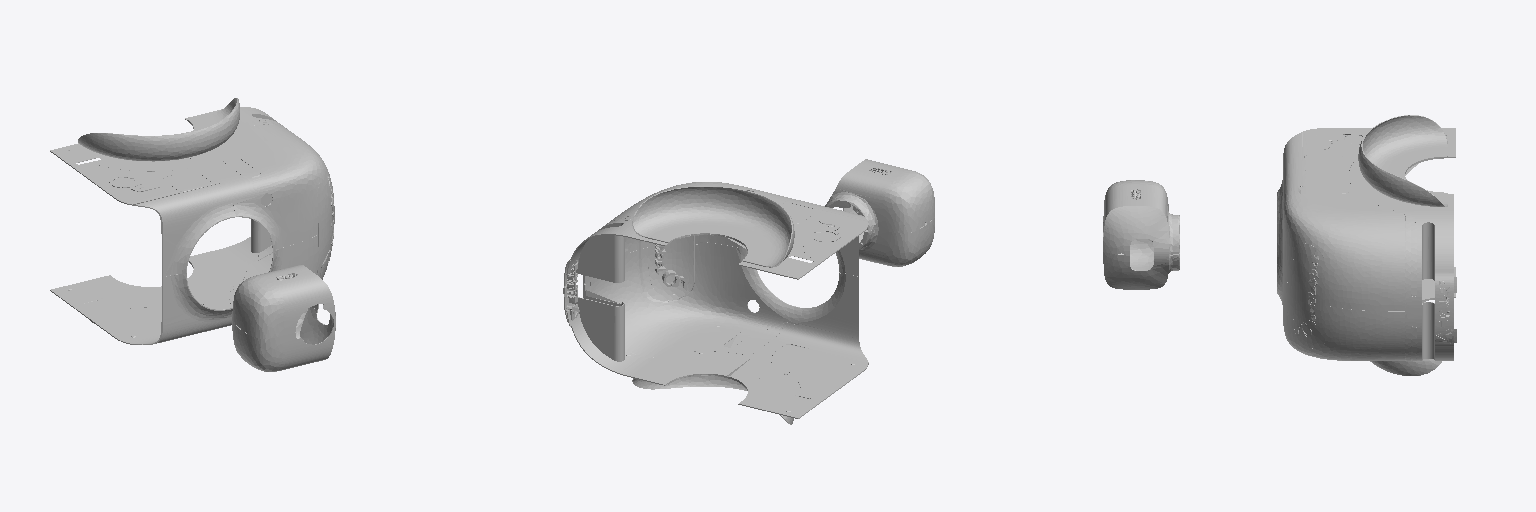
The model's file is processed_fixed_body.obj.
3 views of the same model, side by side, from view 1: azimuth 30°, elevation 25°; view 2: azimuth 150°, elevation 25°; view 3: azimuth 270°, elevation 25° (orthographic).
Parts seen in each view (by area): view 1: fixed_body; view 2: fixed_body; view 3: fixed_body.
Boxes of the visible parts, x1,y1,x2,y2 form: fixed_body: [50, 98, 335, 371]; fixed_body: [563, 159, 934, 424]; fixed_body: [1103, 115, 1456, 375].
Size of the model in its own units: 0.7673 by 0.6194 by 0.9925.